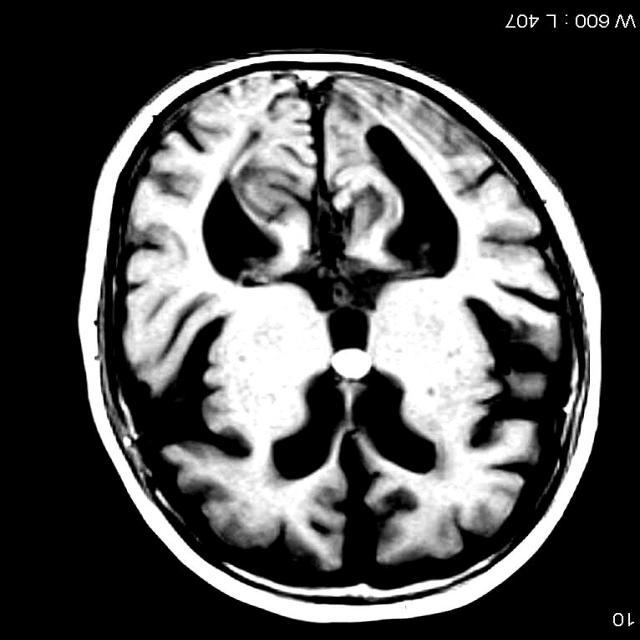Tumor: (329, 347, 373, 378)
